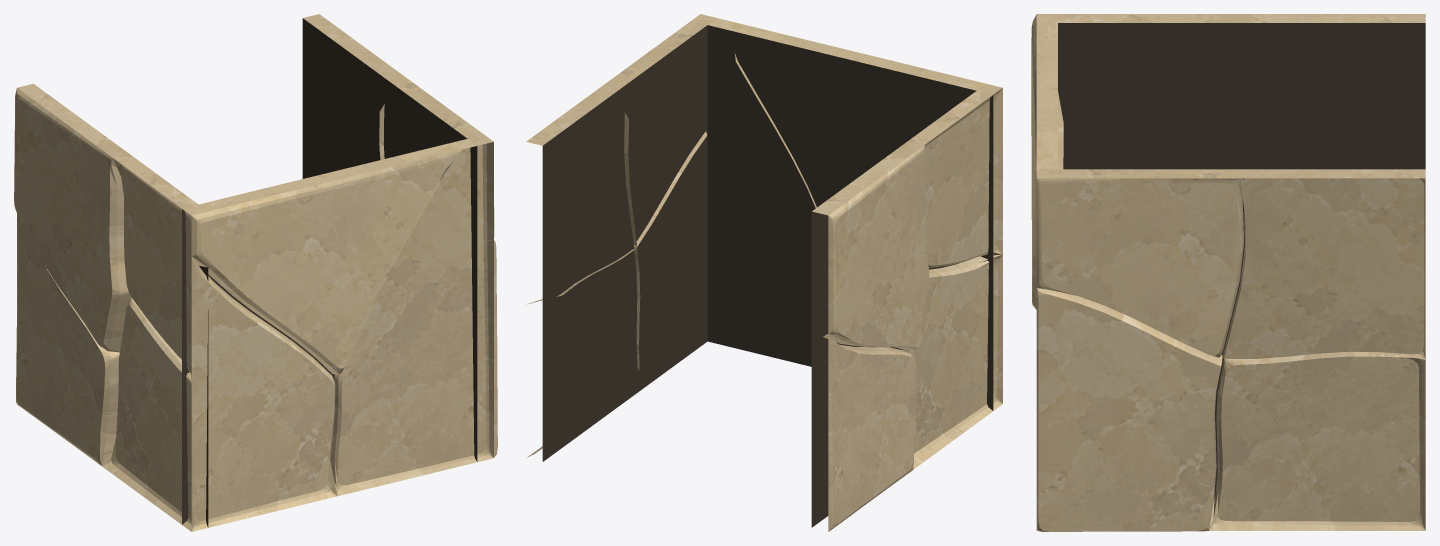
The model's file is ground_square_end_01.glb.
The picture shows the model from 3 angles, left to right: view 1: azimuth 30°, elevation 25°; view 2: azimuth 150°, elevation 25°; view 3: azimuth 270°, elevation 25°; orthographic projection. The views are drawn at different scales.
Parts seen in each view (by area): view 1: GroundSquareEnd01_Body; view 2: GroundSquareEnd01_Body; view 3: GroundSquareEnd01_Body.
Part boxes in pixels (x1=…): GroundSquareEnd01_Body: x1=14, y1=14, x2=497, y2=531; GroundSquareEnd01_Body: x1=526, y1=14, x2=1002, y2=531; GroundSquareEnd01_Body: x1=1031, y1=14, x2=1425, y2=531.
Bounding box in the file's own units: 1.03 × 1 × 1.01.
13 materials, 12 textured.
